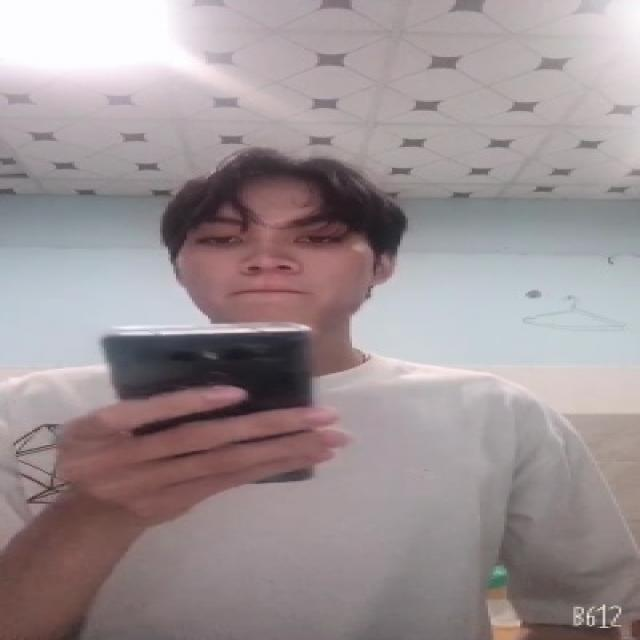Phone: (98, 326, 326, 488)
